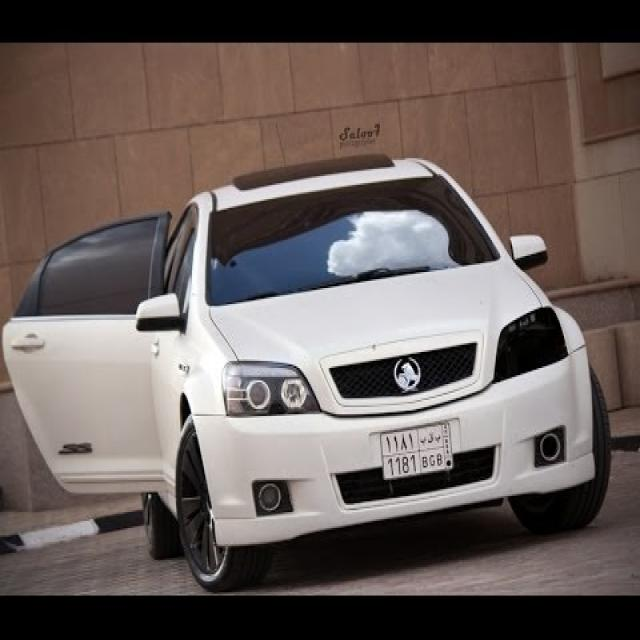license_plate: (377, 421, 456, 482)
